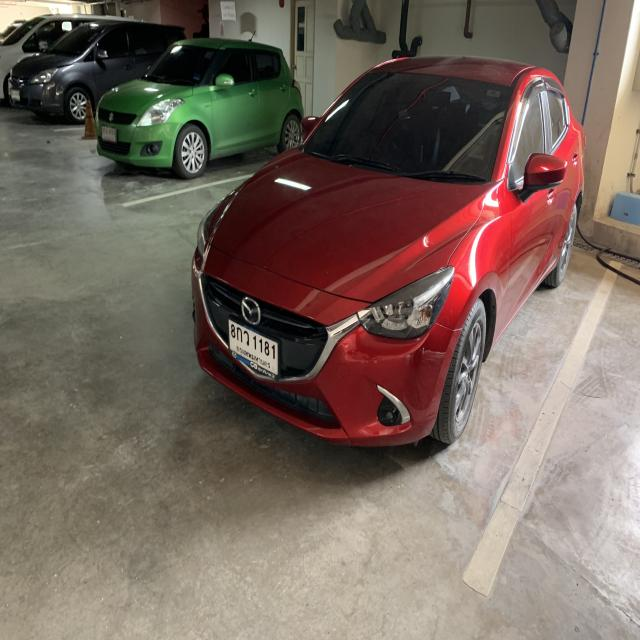license_plate: (225, 315, 282, 384), (100, 124, 118, 146), (10, 89, 20, 102)
